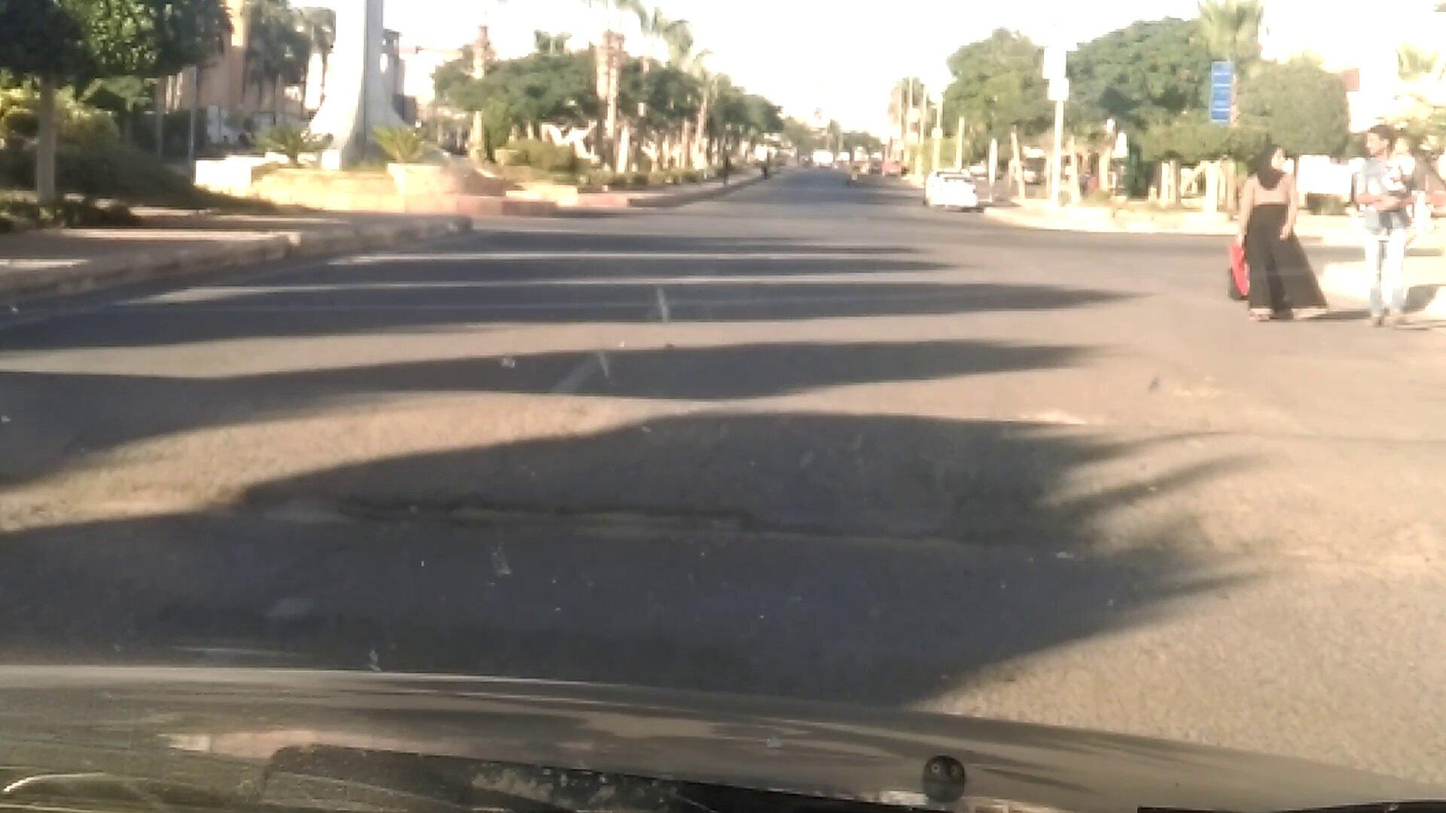Bump: (2, 518, 1446, 762)
Pothole: (260, 474, 1135, 559)
